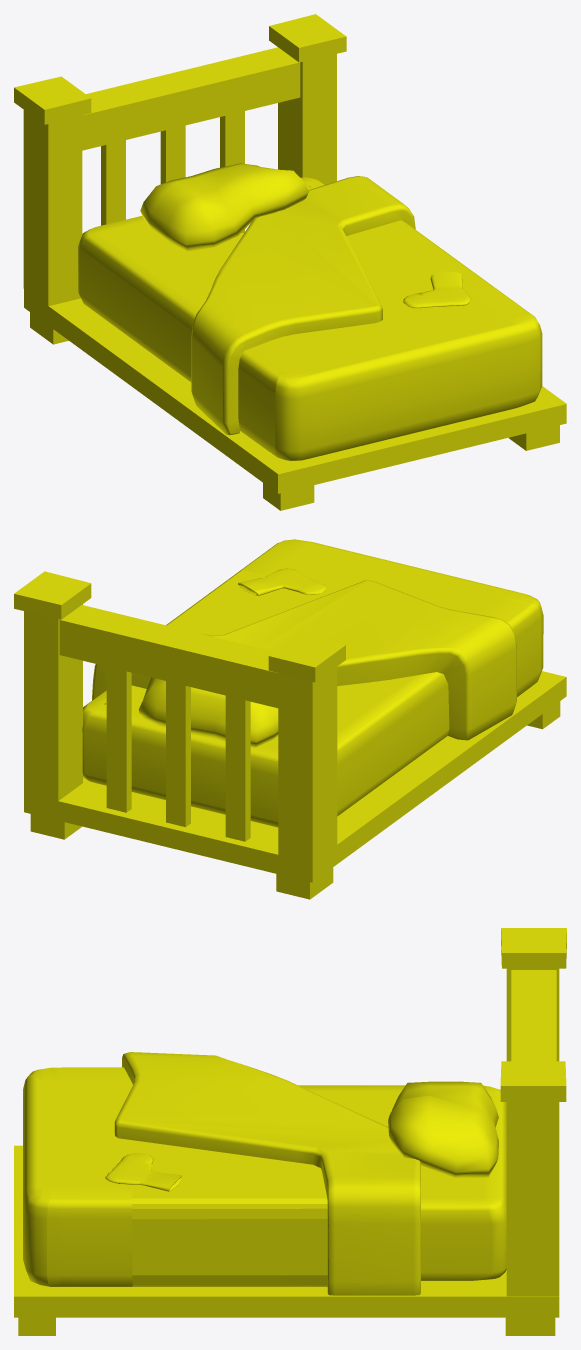
3 renders of one model, top to bottom at view 1: azimuth 30°, elevation 25°; view 2: azimuth 150°, elevation 25°; view 3: azimuth 270°, elevation 25°, orthographic. The views are drawn at different scales.
Parts seen in each view (by area): view 1: bed; view 2: bed; view 3: bed.
Part boxes in pixels (box(x1,y1,x2,y2)): bed: box(14, 14, 566, 510); bed: box(14, 539, 566, 899); bed: box(14, 928, 566, 1335).
Bounding box in the file's own units: 0.0161 × 0.0122 × 0.0239.
Materials: 1 (1 with a texture image).
